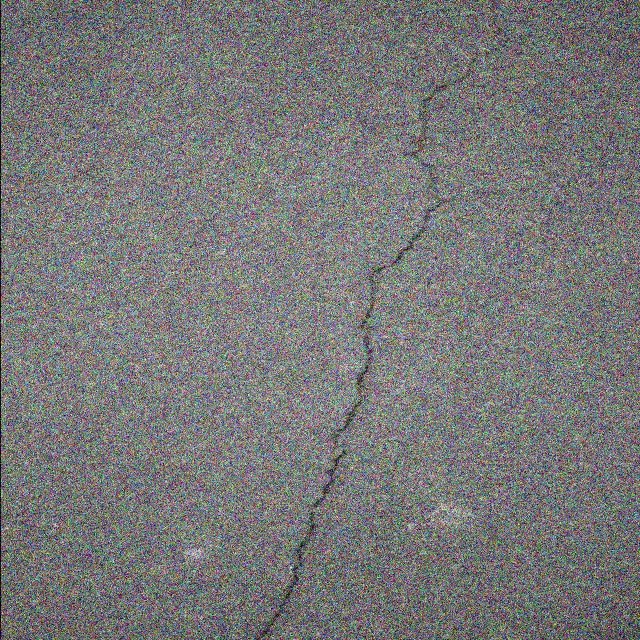SurfaceCrack: (208, 1, 508, 640)
